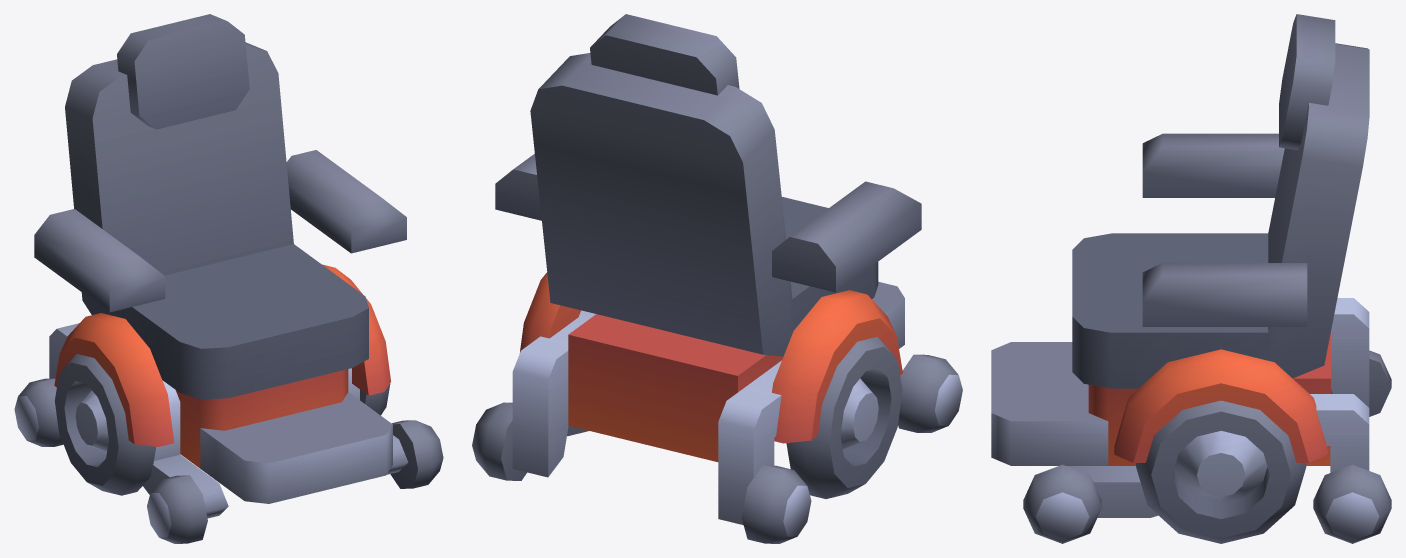
Rendered from kenney-mini-characters-wheelchair-power-deluxe.glb.
3 renders of one model, left to right at view 1: azimuth 30°, elevation 25°; view 2: azimuth 150°, elevation 25°; view 3: azimuth 270°, elevation 25°, orthographic. The views are drawn at different scales.
Parts seen in each view (by area): view 1: wheelchair-power-deluxe; view 2: wheelchair-power-deluxe; view 3: wheelchair-power-deluxe.
Part boxes in pixels (box(x1,y1,x2,y2)): wheelchair-power-deluxe: box(14, 14, 443, 543); wheelchair-power-deluxe: box(472, 14, 962, 543); wheelchair-power-deluxe: box(991, 14, 1391, 543).
Size of the model in its own units: 0.48 by 0.6253 by 0.5109.
Materials: 1 (1 with a texture image).
